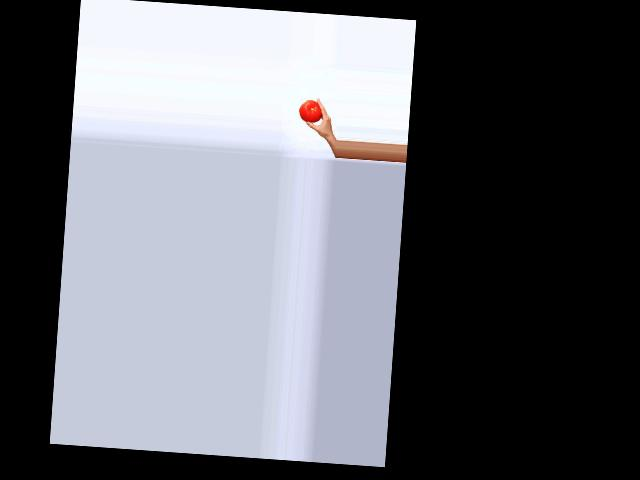tomato: (298, 99, 322, 122)
